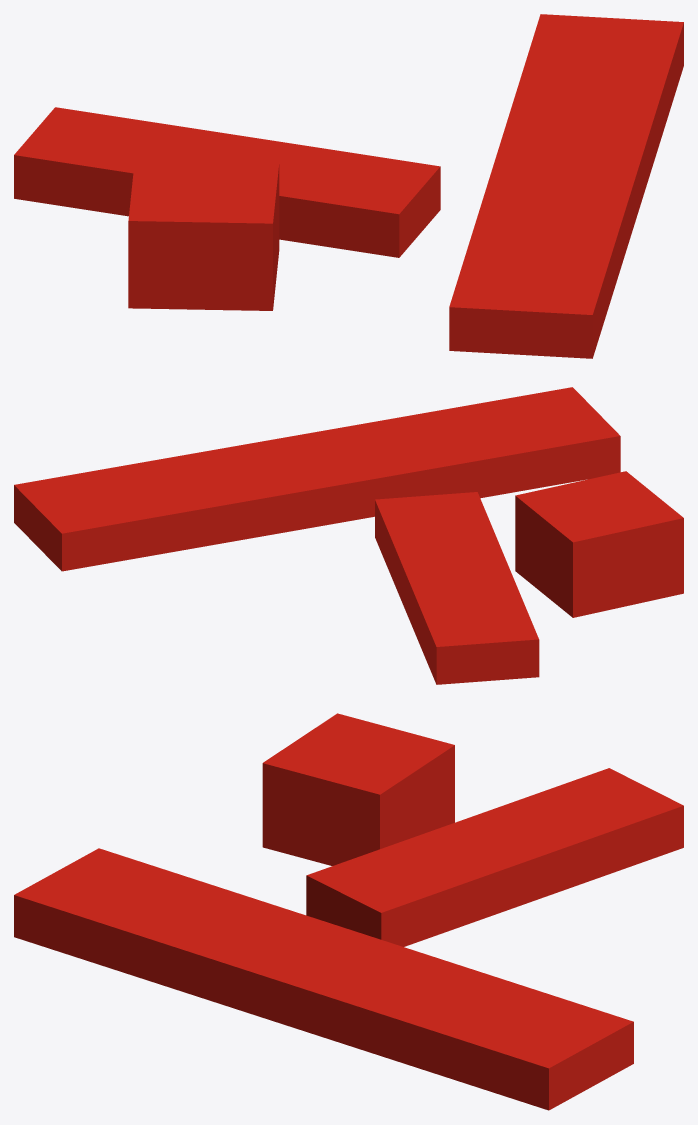
Rendered from bridge_none_3.obj.
3 renders of one model, top to bottom at view 1: azimuth 30°, elevation 25°; view 2: azimuth 150°, elevation 25°; view 3: azimuth 270°, elevation 25°, orthographic. The views are drawn at different scales.
Parts seen in each view (by area): view 1: cube; view 2: cube; view 3: cube.
Part boxes in pixels (left/top/right/bottom): cube: left=14, top=14, right=683, bottom=358; cube: left=14, top=387, right=683, bottom=684; cube: left=14, top=713, right=683, bottom=1110.
Size of the model in its own units: 0.4976 by 0.0625 by 0.4503.
Materials: 1 (1 with a texture image).
